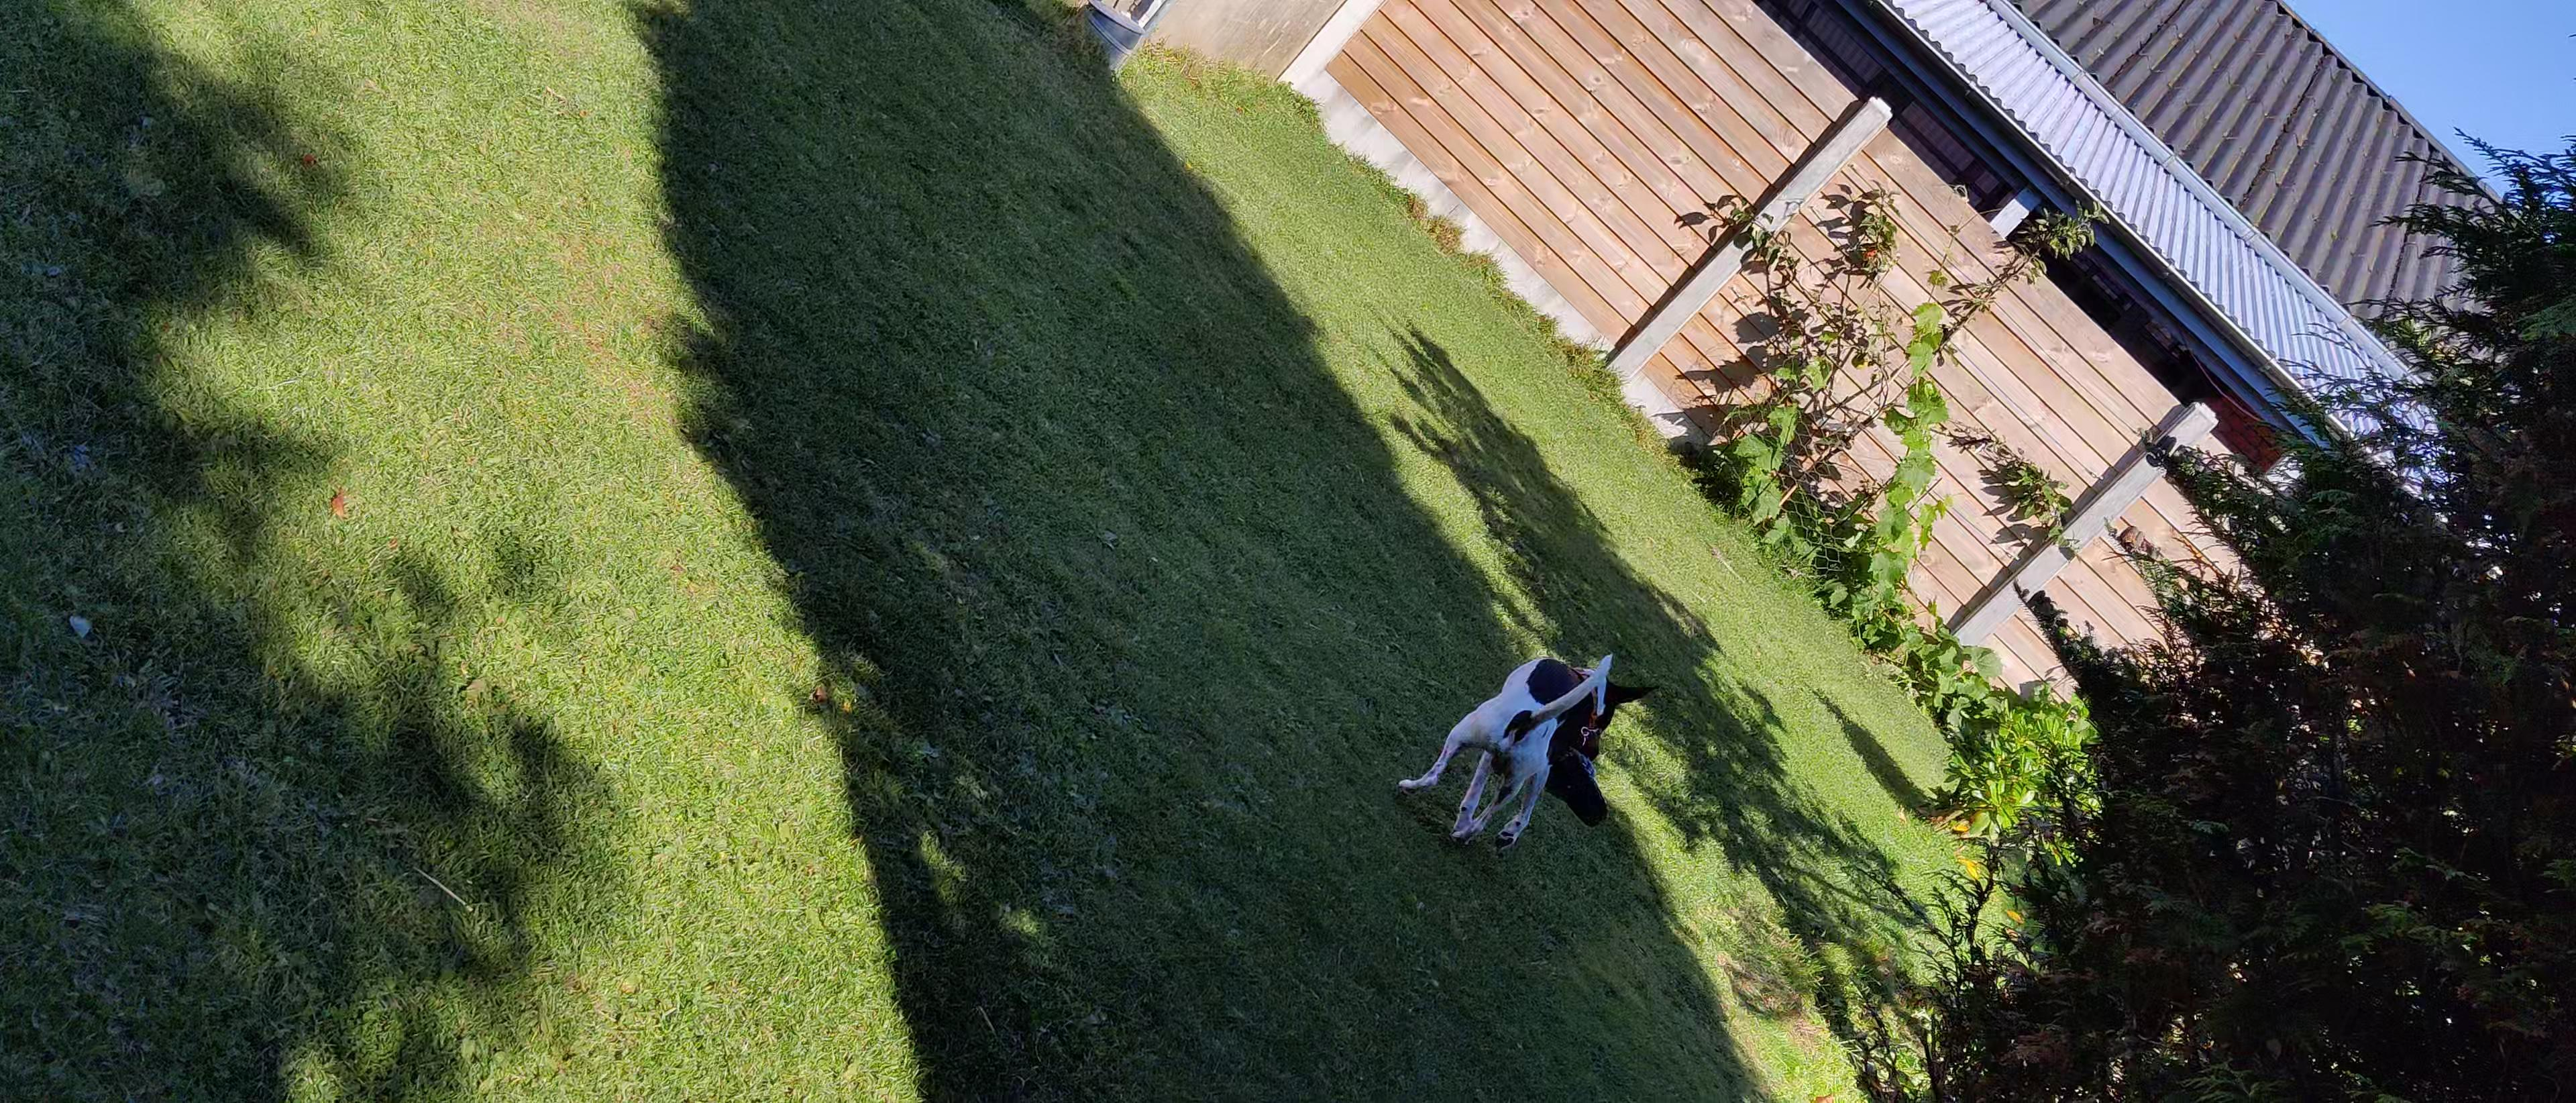Dog: (1387, 620, 1667, 861)
